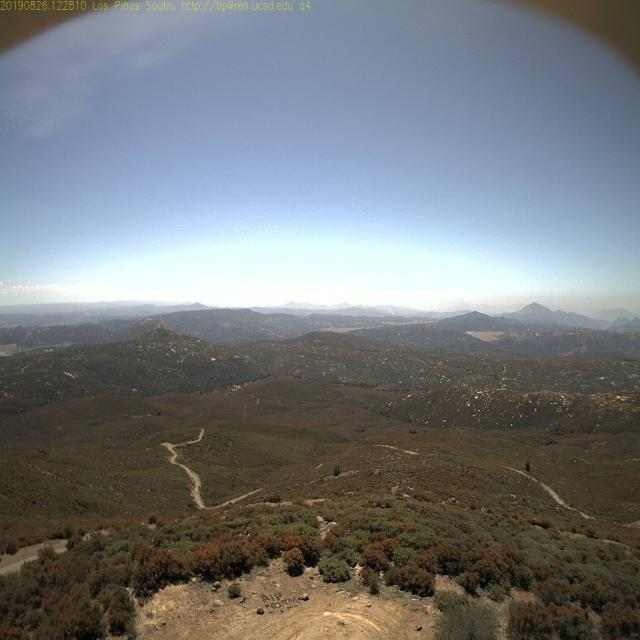smoke: (385, 304, 398, 317)
